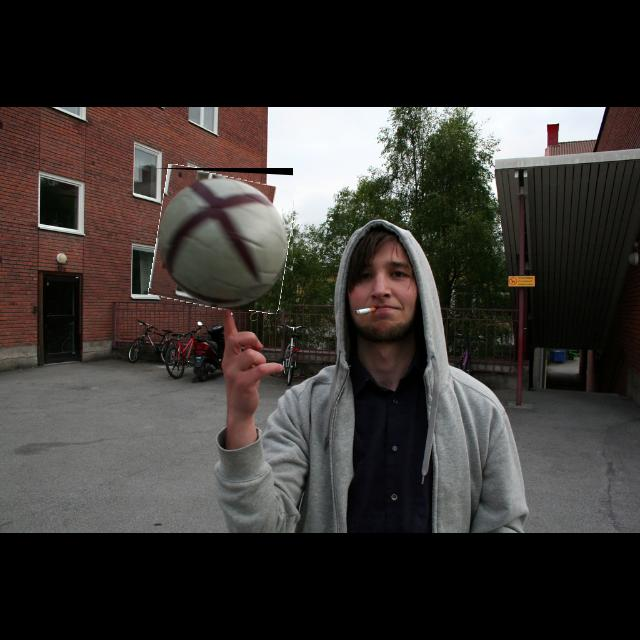Football: (153, 168, 293, 310)
